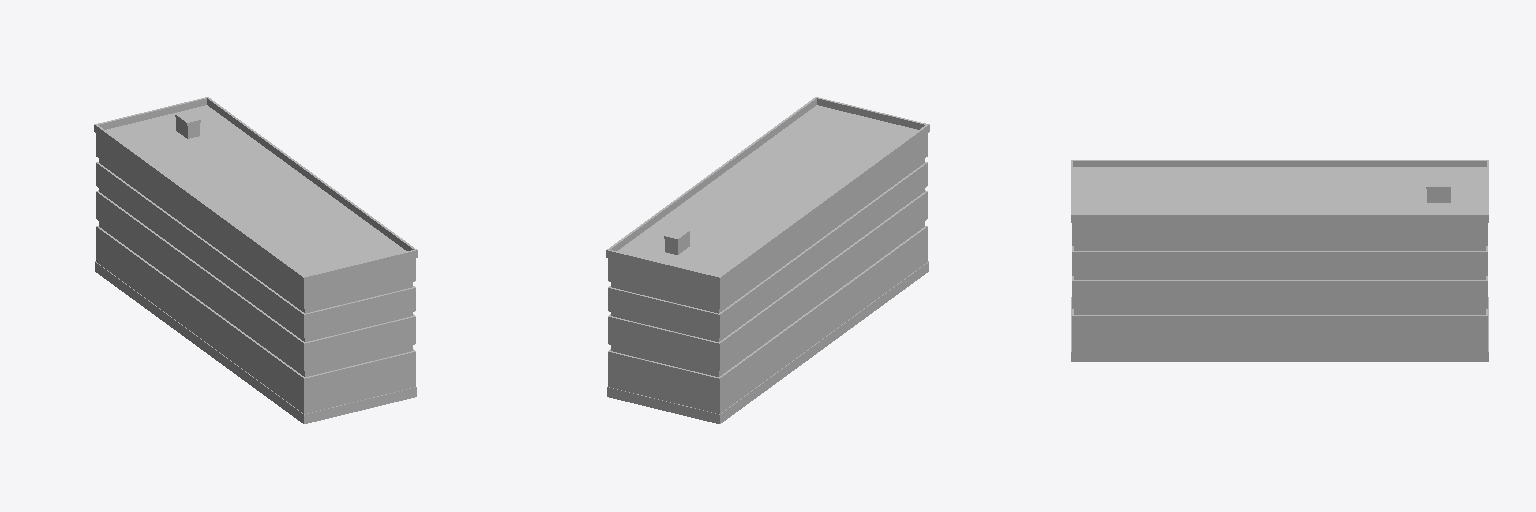
File: Building4.obj
The picture shows the model from 3 angles: view 1: azimuth 30°, elevation 25°; view 2: azimuth 150°, elevation 25°; view 3: azimuth 270°, elevation 25°; orthographic projection.
Visible parts, largest first — view 1: Building4 PROPS; view 2: Building4 PROPS; view 3: Building4 PROPS.
Boxes of the visible parts, <box> form: Building4 PROPS: <box>94,97,417,423</box>; Building4 PROPS: <box>606,97,929,423</box>; Building4 PROPS: <box>1071,160,1488,361</box>.
Bounding box in the file's own units: 6.97 × 9.15 × 22.23.